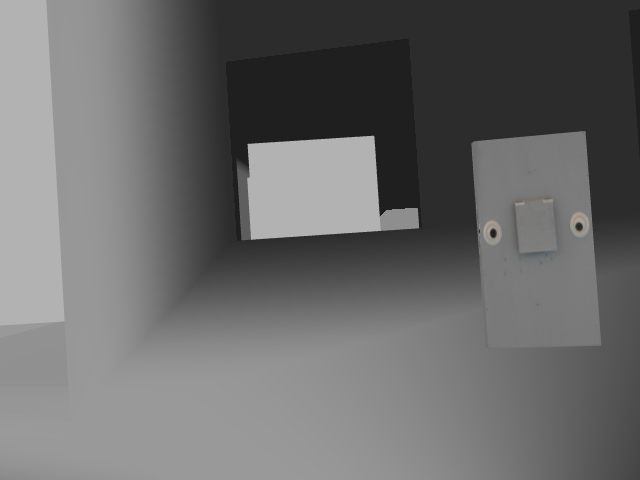facade: (480, 196, 591, 255)
